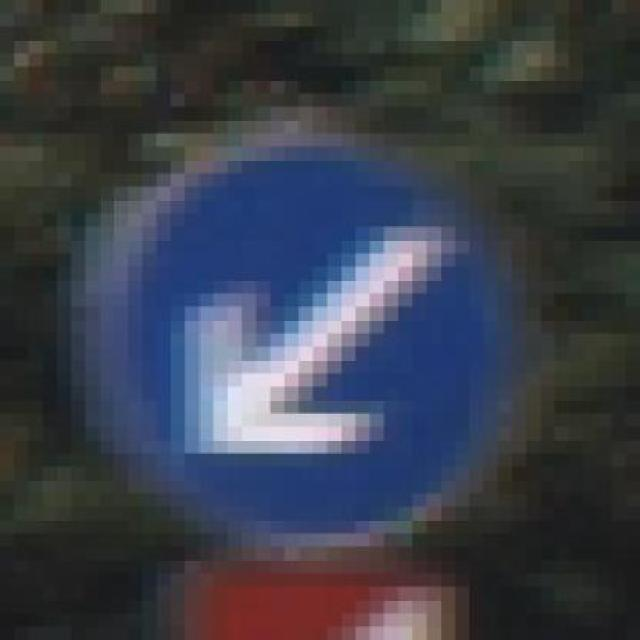Keep-Left: (99, 119, 527, 547)
